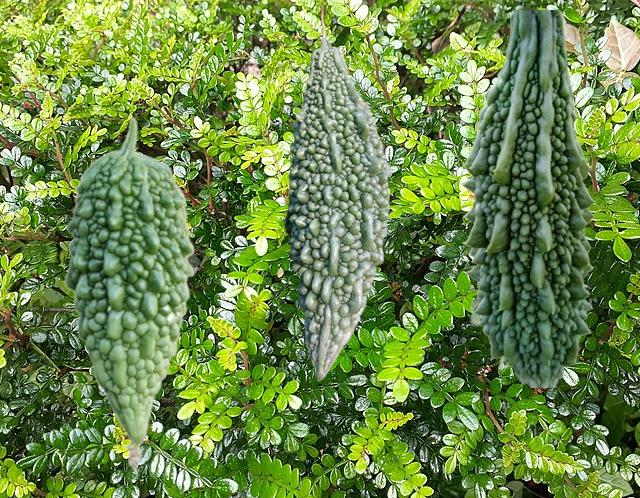ampalaya: (460, 10, 594, 386), (63, 116, 194, 472), (284, 14, 392, 380)
